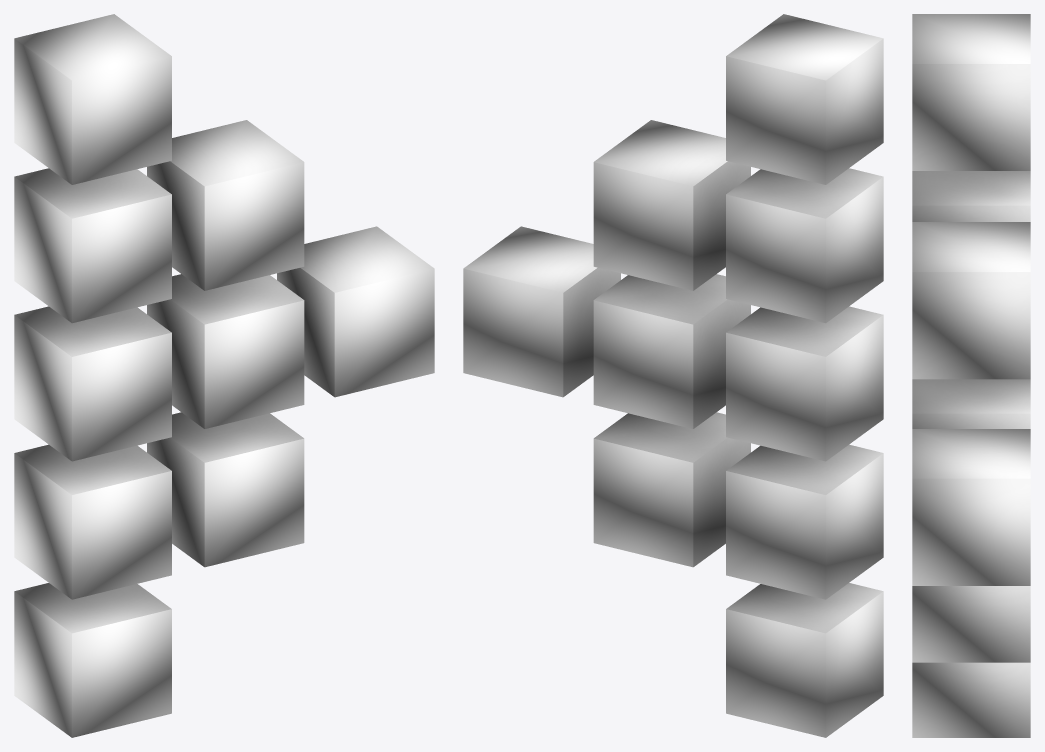
The model's file is Arrow15.fbx.
3 views of the same model, side by side, from view 1: azimuth 30°, elevation 25°; view 2: azimuth 150°, elevation 25°; view 3: azimuth 270°, elevation 25° (orthographic). The views are drawn at different scales.
Parts seen in each view (by area): view 1: Arrow15; view 2: Arrow15; view 3: Arrow15.
Boxes of the visible parts, box(x1,y1,x2,y2) form: Arrow15: box(14, 14, 434, 737); Arrow15: box(463, 14, 883, 737); Arrow15: box(912, 14, 1030, 737).
Bounding box in the file's own units: 2.89 × 5 × 0.7952.
